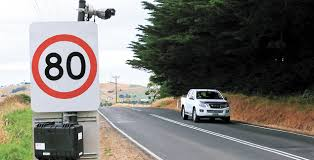Speed_limit_80km: (31, 34, 97, 99)
